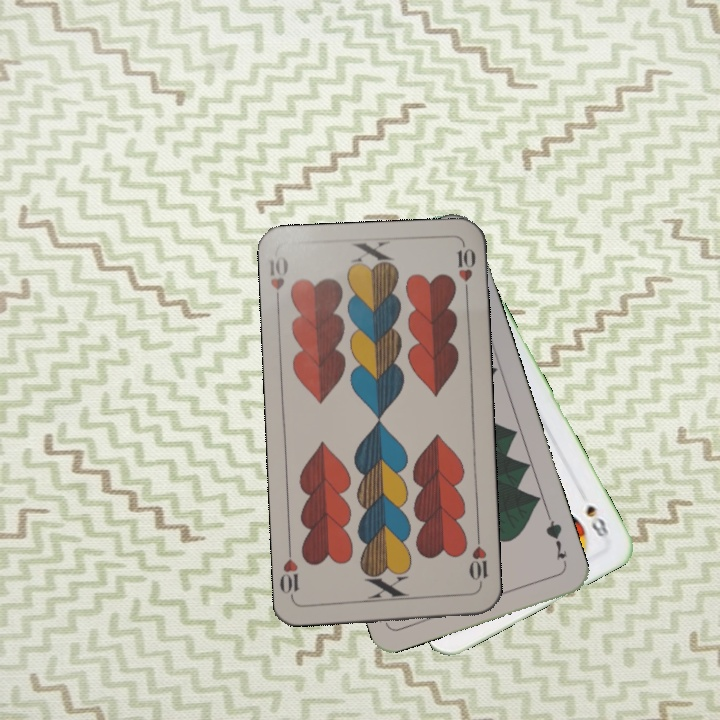G7: (541, 511, 570, 569)
H10: (265, 252, 291, 310), (465, 532, 490, 591)
S8: (581, 500, 614, 543)
